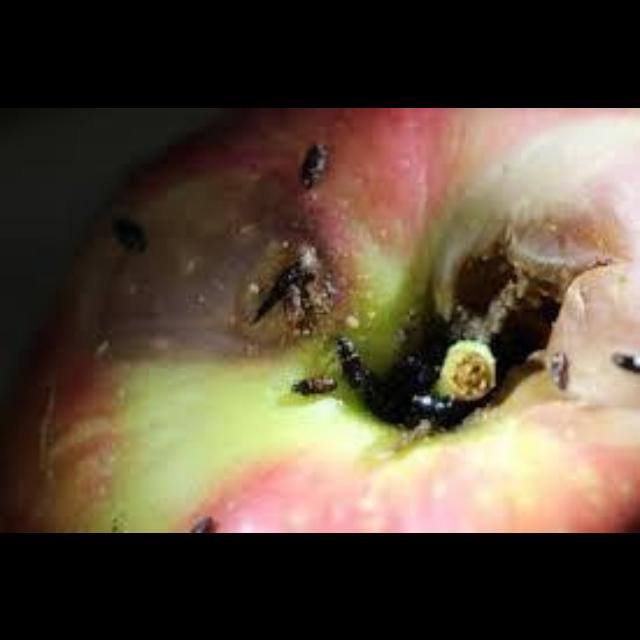apple: (0, 107, 638, 531)
pest: (360, 252, 568, 441), (232, 232, 338, 342), (300, 142, 326, 186), (112, 216, 144, 251), (549, 351, 568, 389), (291, 377, 335, 393), (610, 351, 638, 372), (189, 517, 214, 531)
rotten: (49, 111, 370, 366)
